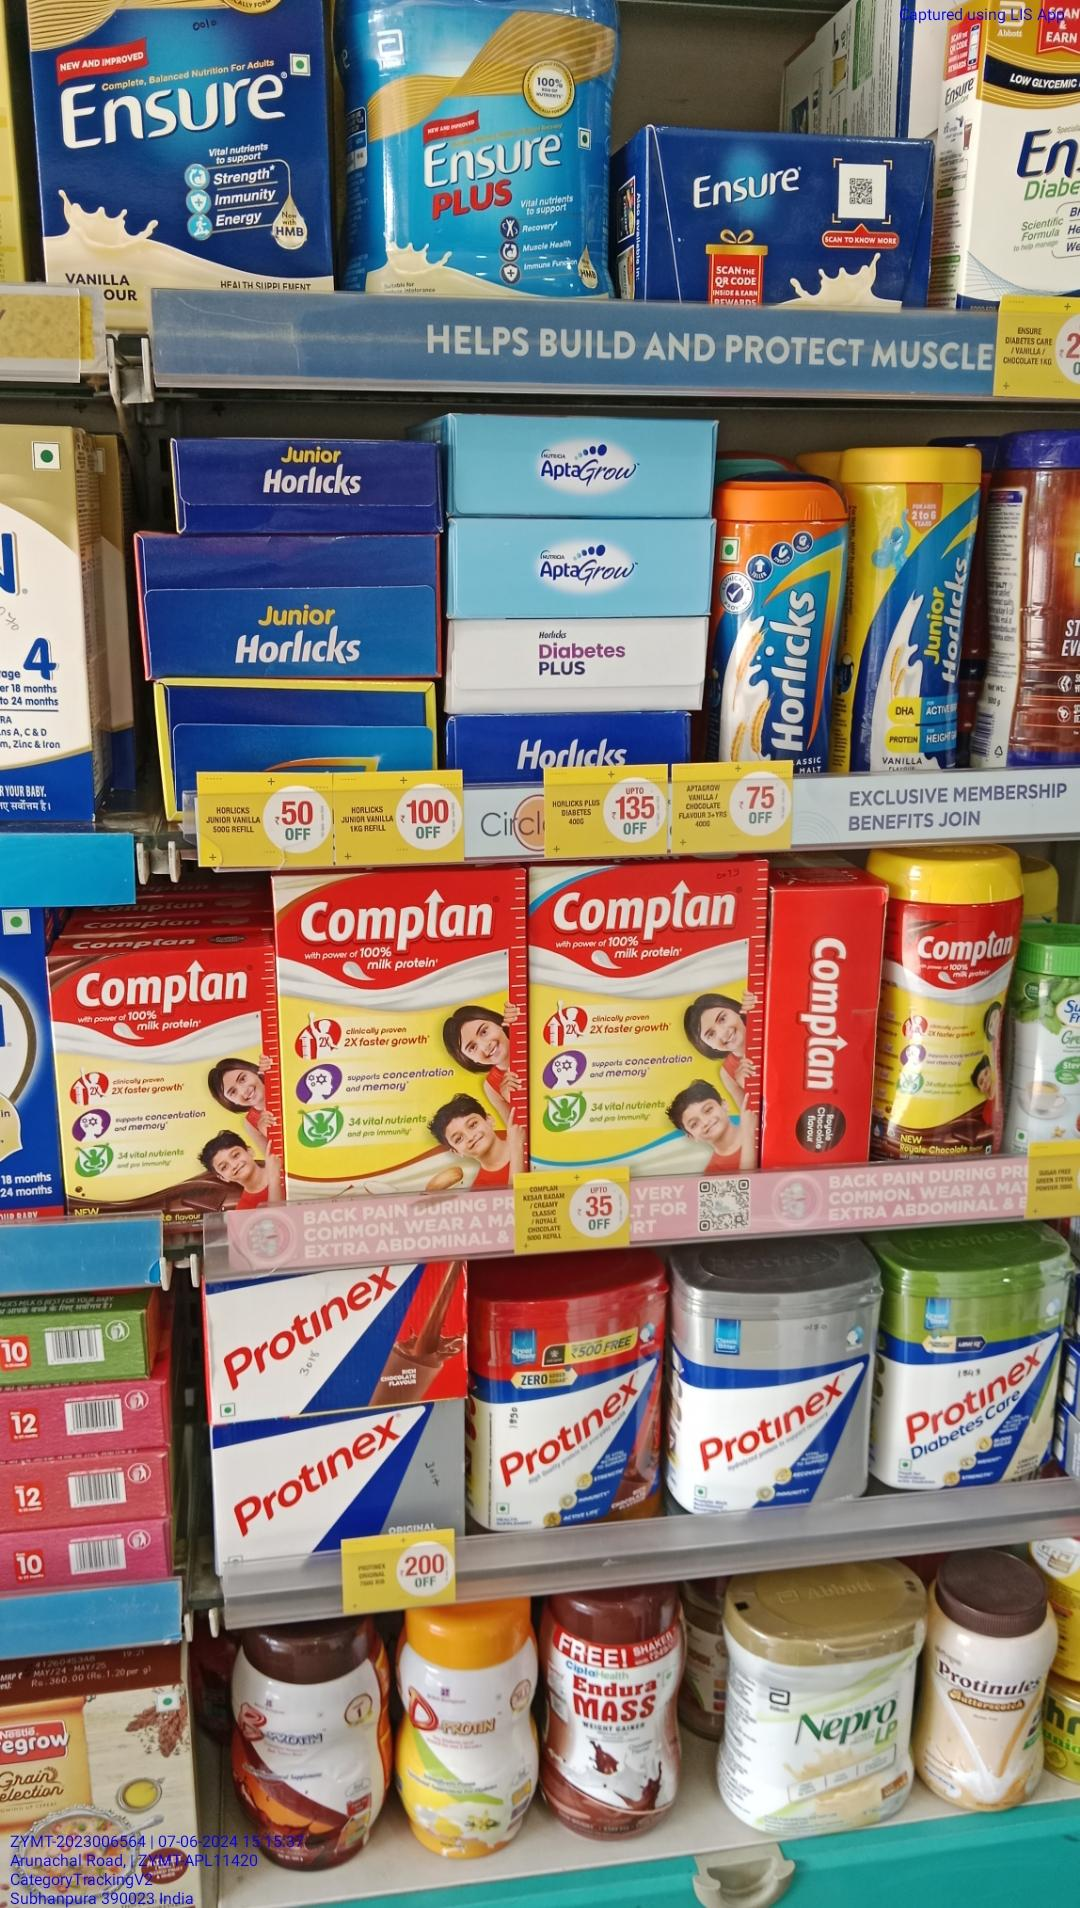ENSURE_VANILLA_400_G_PACK: (26, 1, 334, 303)
HORLICKS_JUNIOR_VANILLA_500_GM_JAR: (847, 444, 963, 781)
HORLICK_CLASSIC_MALT_500_G_JAR: (722, 482, 839, 765)
